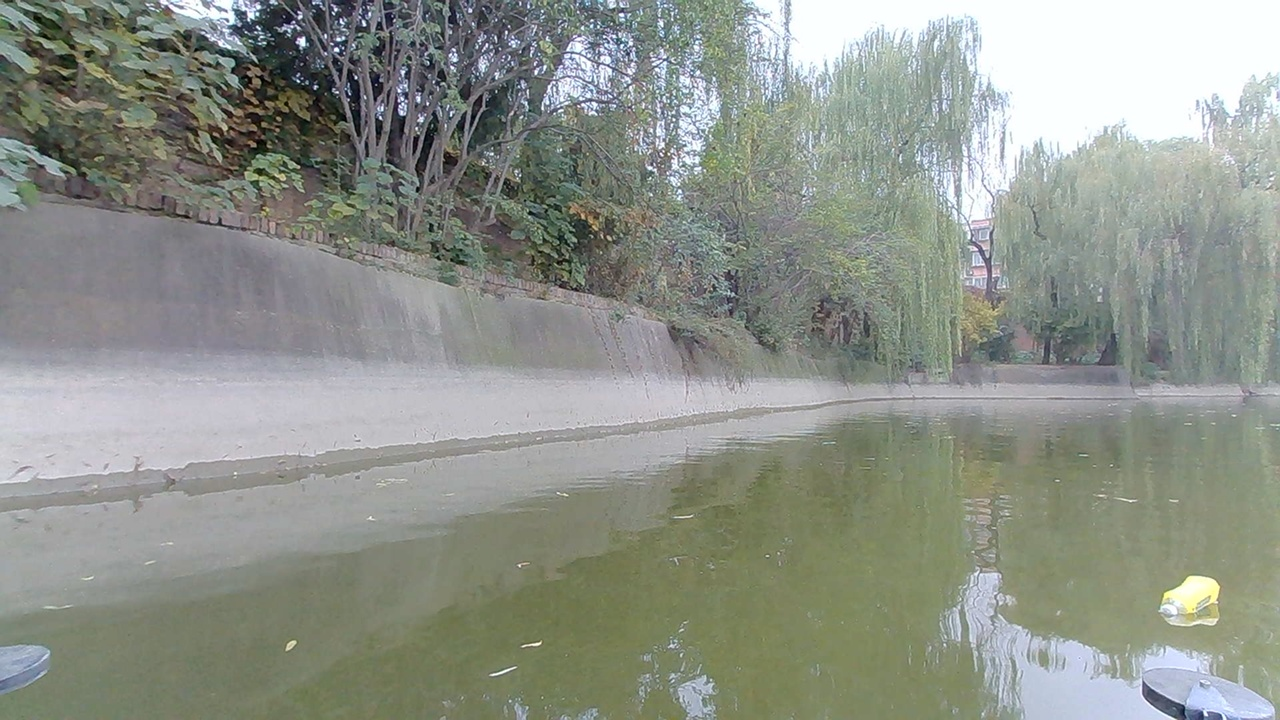bottle: (1156, 575, 1230, 628)
